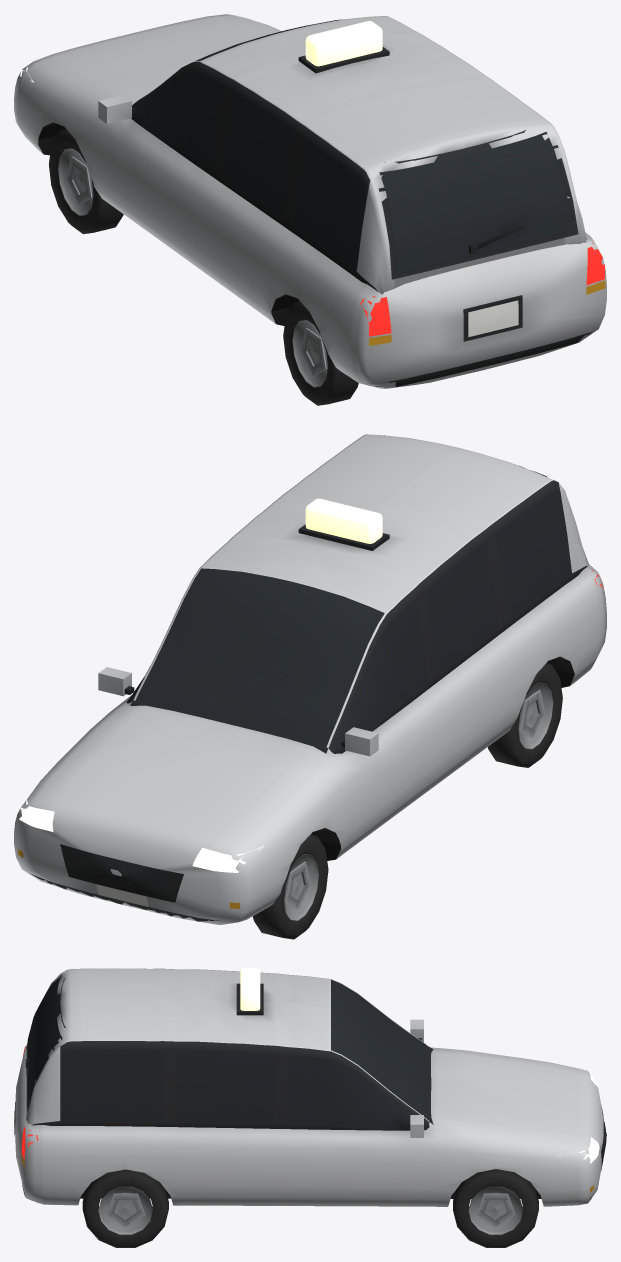
The model's file is traffic_taxi.glb.
The picture shows the model from 3 angles, top to bottom: view 1: azimuth 30°, elevation 25°; view 2: azimuth 150°, elevation 25°; view 3: azimuth 270°, elevation 25°; orthographic projection. The views are drawn at different scales.
Parts seen in each view (by area): view 1: body; view 2: body; view 3: body.
Boxes of the visible parts, <box> form: body: <box>14,14,606,405</box>; body: <box>14,434,606,939</box>; body: <box>14,968,606,1247</box>.
Size of the model in its own units: 1.84 by 1.85 by 4.41.
